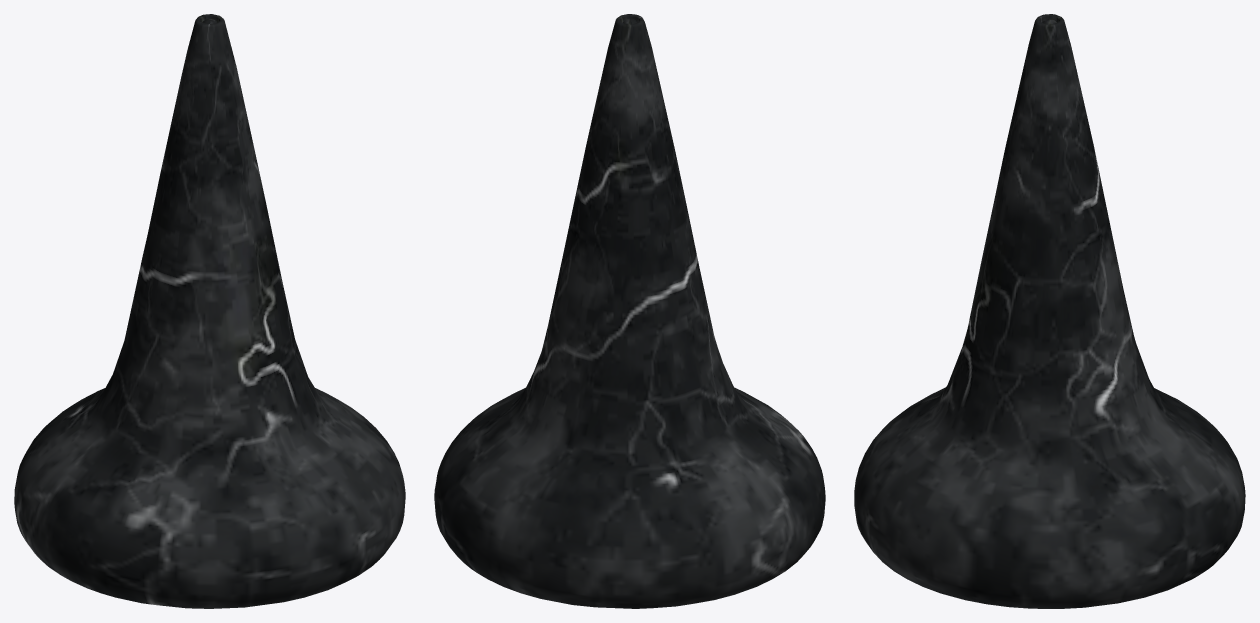
Rendered from Serpentina_pawn_black.glb.
3 views of the same model, side by side, from view 1: azimuth 30°, elevation 25°; view 2: azimuth 150°, elevation 25°; view 3: azimuth 270°, elevation 25° (orthographic).
Parts seen in each view (by area): view 1: Serpentina_pawn_black; view 2: Serpentina_pawn_black; view 3: Serpentina_pawn_black.
Part boxes in pixels (x1=…): Serpentina_pawn_black: x1=14, y1=14, x2=405, y2=608; Serpentina_pawn_black: x1=434, y1=14, x2=825, y2=608; Serpentina_pawn_black: x1=854, y1=14, x2=1245, y2=608.
Size of the model in its own units: 0.0388 by 0.0562 by 0.0387.
1 material, 1 textured.
